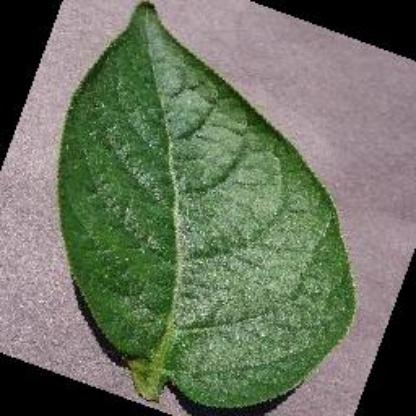Healthy-plant: (60, 9, 384, 410)
